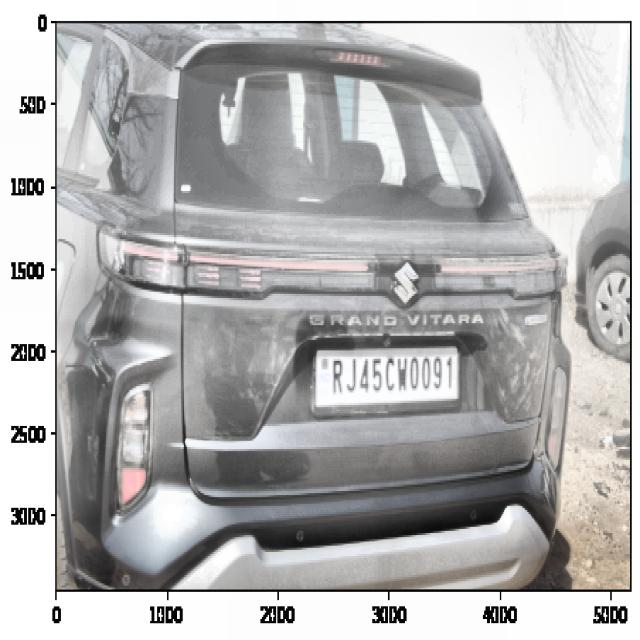license_plate: (326, 349, 461, 406)
